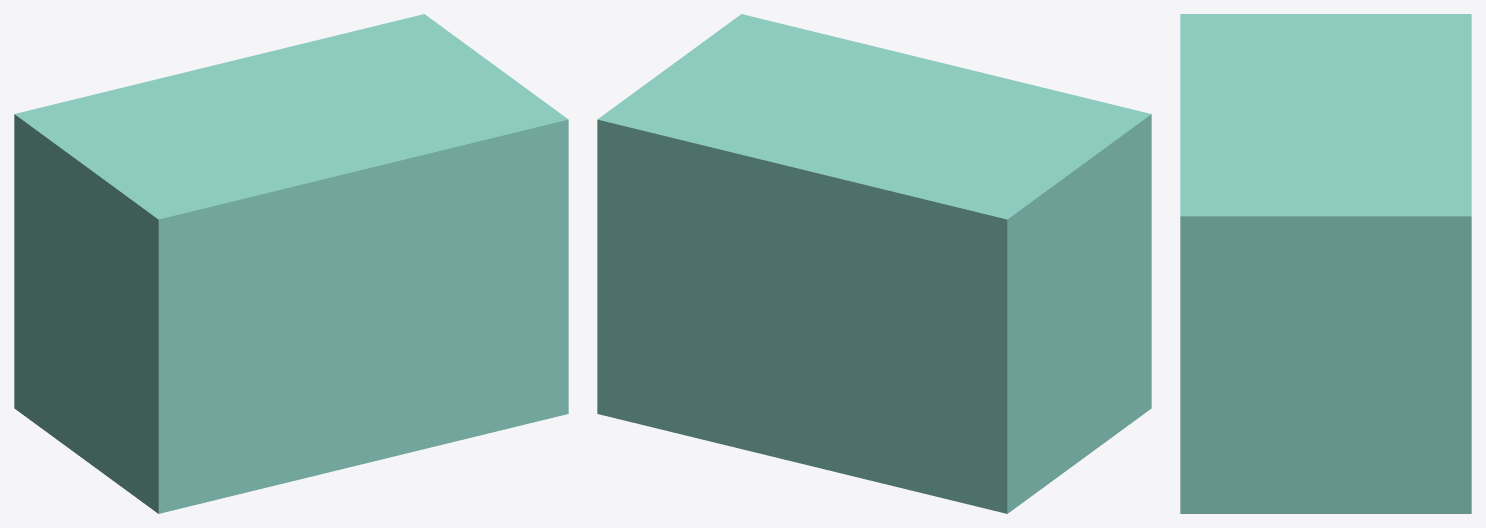
Rendered from dumpster_2.DAE.
3 renders of one model, left to right at view 1: azimuth 30°, elevation 25°; view 2: azimuth 150°, elevation 25°; view 3: azimuth 270°, elevation 25°, orthographic.
Parts seen in each view (by area): view 1: bounds; view 2: bounds; view 3: bounds.
Boxes of the visible parts, left/top/right/bottom form: bounds: left=14, top=14, right=568, bottom=513; bounds: left=597, top=14, right=1151, bottom=513; bounds: left=1180, top=14, right=1471, bottom=513.
Bounding box in the file's own units: 254 × 155 × 174.
